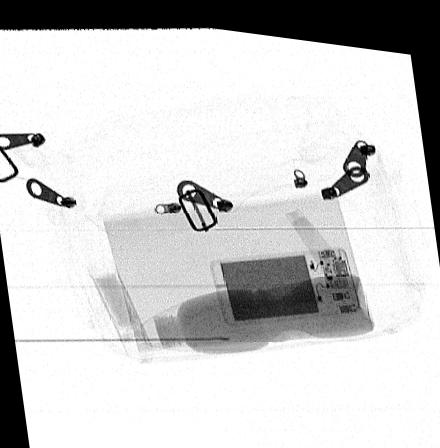Powerbank: (208, 236, 360, 318)
